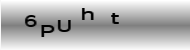6: (23, 14, 38, 29)
P: (39, 24, 55, 38)
U: (56, 19, 72, 33)
h: (80, 6, 94, 21)
t: (109, 11, 121, 25)
